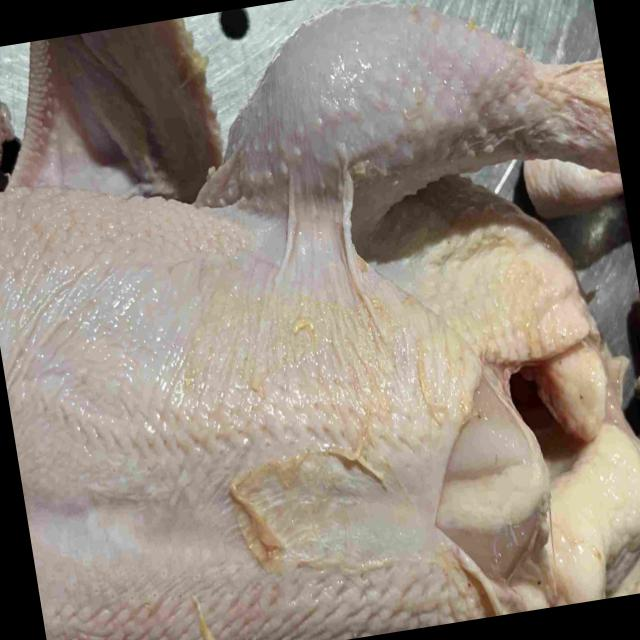breast: (0, 188, 522, 640)
leg: (210, 17, 621, 229)
wing: (0, 18, 209, 199)
